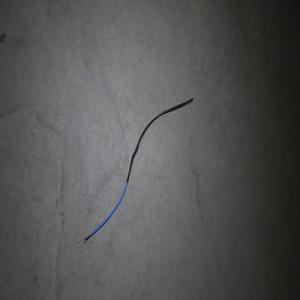Wire: (82, 97, 193, 244)
